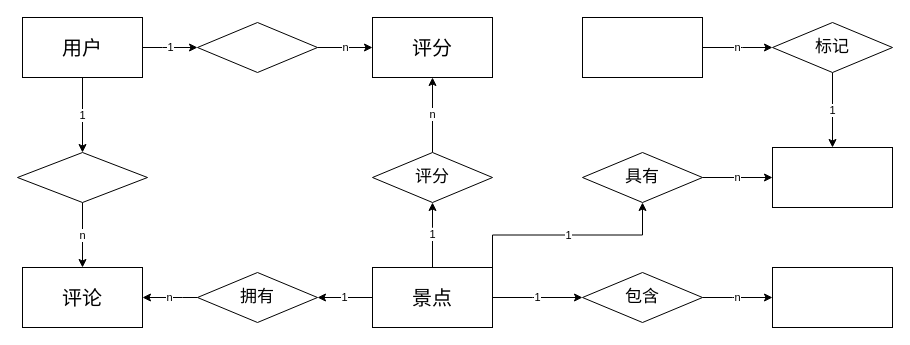
This 910x345 diagram has some shape labels left out. Here are the shapes that lost their labels. From the top down, the box of each, then its label:
(196, 22, 318, 72): 给出
(582, 16, 702, 78): 标签
(16, 152, 148, 202): 创建
(772, 146, 892, 208): 景点标签
(772, 266, 892, 328): 价格
